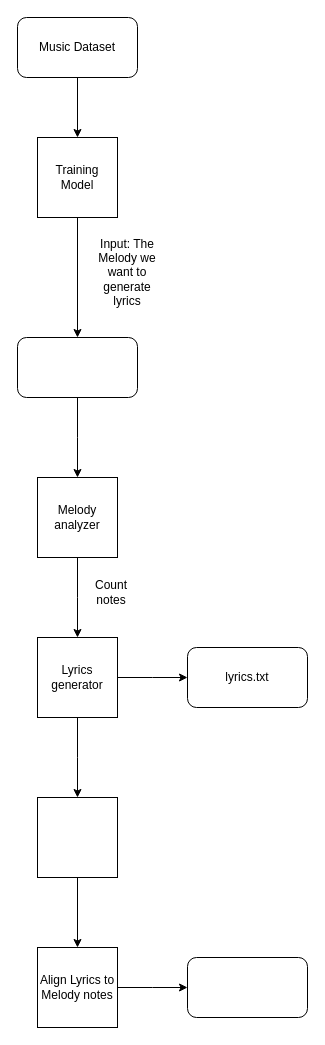
Image size: 325x1045. Some labels were removed from this diagram. Here are the shapes that lost their labels. From the top down, the box of each, then its label:
(16, 336, 138, 398): Predict Music Genre
(36, 796, 118, 878): Lyrics segmentation
(186, 956, 308, 1018): aligned_lyrics.txt
